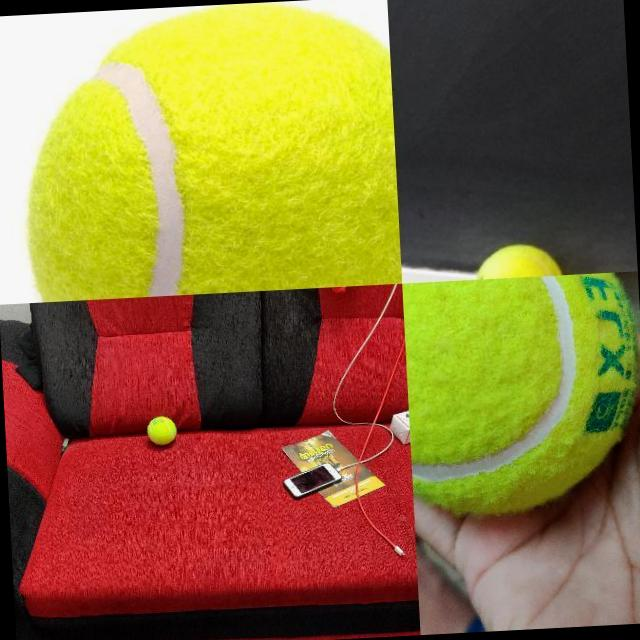Tennis Ball: (14, 0, 402, 302), (403, 271, 640, 516), (472, 240, 565, 279), (147, 416, 178, 446)
